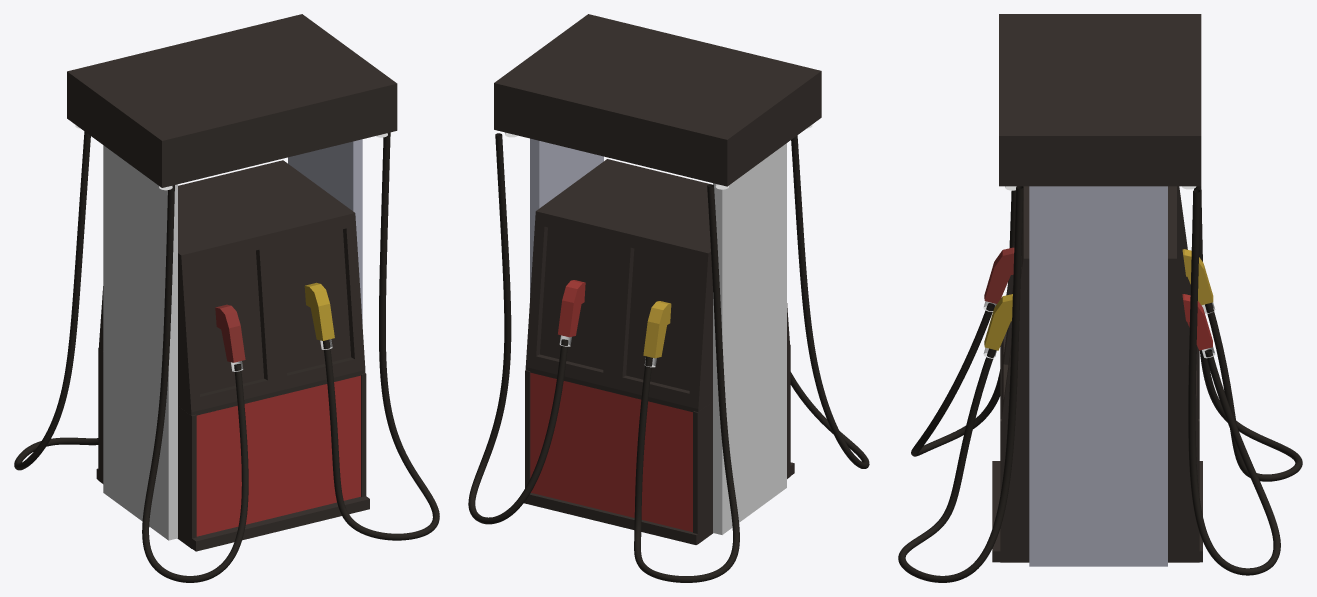
Rendered from GasPump.glb.
The picture shows the model from 3 angles, left to right: view 1: azimuth 30°, elevation 25°; view 2: azimuth 150°, elevation 25°; view 3: azimuth 270°, elevation 25°; orthographic projection. The views are drawn at different scales.
Parts seen in each view (by area): view 1: Gas Pump, NurbsPath.002; view 2: Gas Pump, NurbsPath.002; view 3: Gas Pump, NurbsPath.002.
Part boxes in pixels (<box>): Gas Pump: <box>67,14,397,551</box>; NurbsPath.002: <box>14,131,439,582</box>; Gas Pump: <box>494,14,821,544</box>; NurbsPath.002: <box>468,133,869,582</box>; Gas Pump: <box>983,14,1215,566</box>; NurbsPath.002: <box>898,186,1302,582</box>.
Size of the model in its own units: 1.2 by 1.69 by 1.4.
